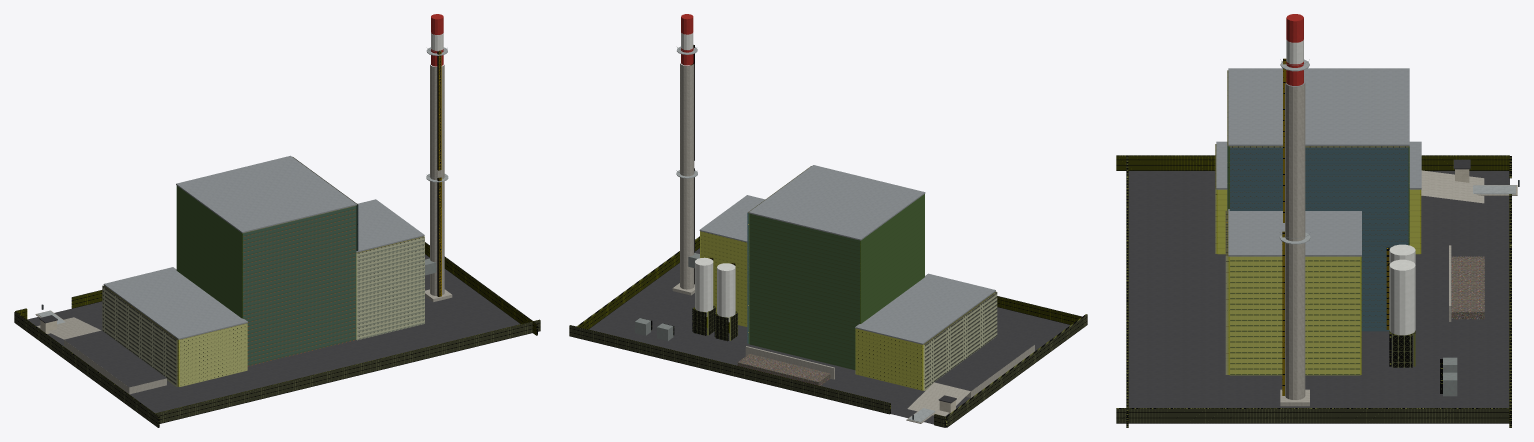
File: incinerator.glb
3 views of the same model, side by side, from view 1: azimuth 30°, elevation 25°; view 2: azimuth 150°, elevation 25°; view 3: azimuth 270°, elevation 25° (orthographic). The views are drawn at different scales.
Visible parts, largest first — view 1: incinerator; view 2: incinerator; view 3: incinerator.
Part boxes in pixels (x1=…): incinerator: x1=14, y1=14, x2=540, y2=427; incinerator: x1=569, y1=14, x2=1087, y2=427; incinerator: x1=1116, y1=14, x2=1519, y2=427.
Bounding box in the file's own units: 102 × 70.8 × 67.65.
28 materials, 28 textured.
